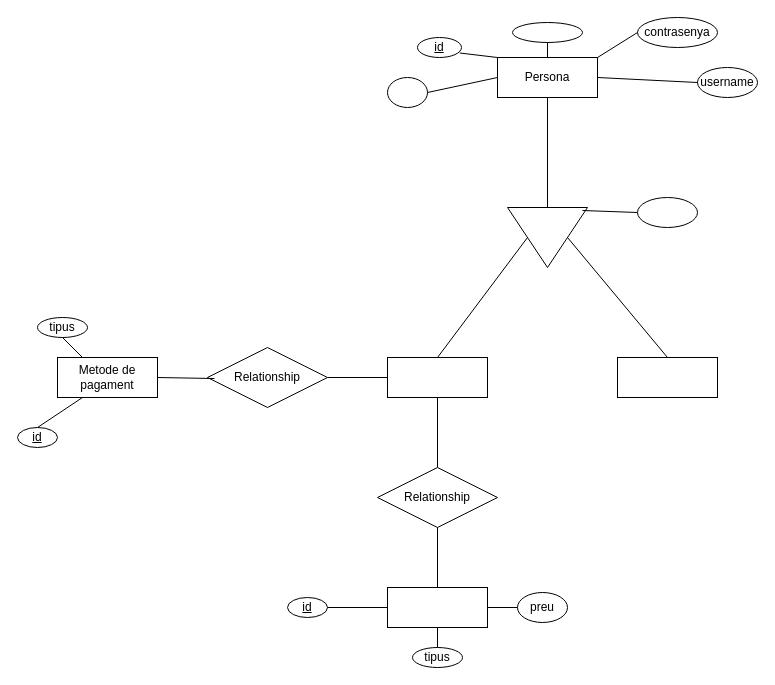
This 775x685 diagram has some shape labels left out. The shapes that lost their labels are listed below. From the top down, each one's centre as x and y in pixels, then its label:
At (x=547, y=32): "correu".
At (x=407, y=92): "nom".
At (x=667, y=212): "grup".
At (x=437, y=377): "Usuari".
At (x=667, y=377): "Administrador".
At (x=437, y=607): "Subscripció".
